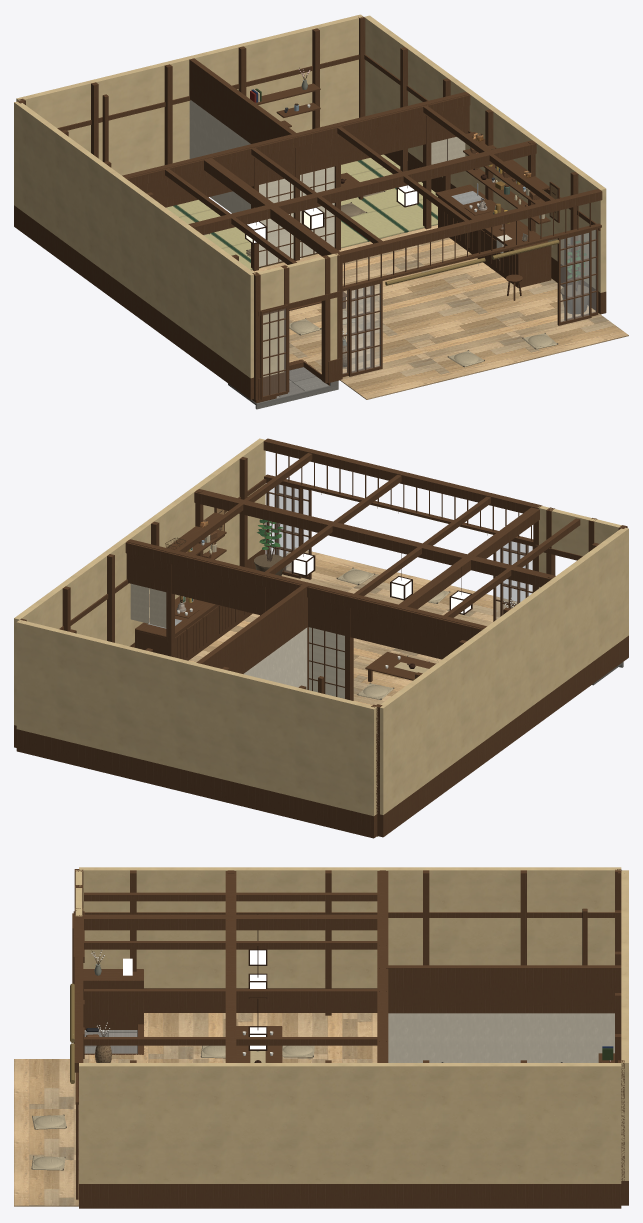
The model's file is yizhan.glb.
3 views of the same model, one above another, from view 1: azimuth 30°, elevation 25°; view 2: azimuth 150°, elevation 25°; view 3: azimuth 270°, elevation 25° (orthographic). The views are drawn at different scales.
Parts seen in each view (by area): view 1: yzn_post, WALL_left_yzn_wall, yzn_floor, WALL_back_yzn_wall, WALL_engawa_yzn_post, WALL_right_yzn_wall, yzn_vcg, WALL_engawa_yzn_glass, yzn_tatami, WALL_left_yzn_post, WALL_right_yzn_post, WALL_engawa_yzn_wall (+5 smaller); view 2: WALL_back_yzn_wall, yzn_post, WALL_left_yzn_wall, WALL_right_yzn_wall, WALL_engawa_yzn_post, WALL_back_yzn_post, yzn_floor, WALL_left_yzn_post, yzn_vcg, WALL_right_yzn_post, WALL_engawa_yzn_glass, yzn_vc (+4 smaller); view 3: WALL_right_yzn_wall, WALL_left_yzn_wall, yzn_post, yzn_floor, WALL_right_yzn_post, yzn_vcg, WALL_left_yzn_post, WALL_back_yzn_wall, WALL_engawa_yzn_post, yzn_vc_fabric, WALL_back_yzn_post, yzn_washi (+3 smaller).
Boxes of the visible parts, box(x1,y1,x2,y2) form: yzn_post: box(102, 58, 554, 403); WALL_left_yzn_wall: box(14, 101, 255, 378); yzn_floor: box(251, 225, 628, 399); WALL_back_yzn_wall: box(16, 14, 363, 175); WALL_engawa_yzn_post: box(252, 188, 602, 400); WALL_right_yzn_wall: box(364, 15, 606, 292); yzn_vcg: box(189, 69, 588, 409); WALL_engawa_yzn_glass: box(263, 230, 595, 395); yzn_tatami: box(166, 154, 437, 270); WALL_left_yzn_post: box(14, 98, 253, 399); WALL_right_yzn_post: box(358, 16, 606, 314); WALL_engawa_yzn_wall: box(257, 253, 339, 376); WALL_back_yzn_wall: box(16, 620, 377, 816); yzn_post: box(125, 453, 580, 700); WALL_left_yzn_wall: box(377, 527, 628, 814); WALL_right_yzn_wall: box(14, 438, 265, 725); WALL_engawa_yzn_post: box(263, 438, 627, 621); WALL_back_yzn_post: box(16, 629, 382, 838); yzn_floor: box(189, 547, 517, 705); WALL_left_yzn_post: box(371, 543, 628, 837); yzn_vcg: box(177, 535, 623, 698); WALL_right_yzn_post: box(14, 457, 266, 747); WALL_engawa_yzn_glass: box(269, 484, 532, 619); yzn_vc: box(130, 519, 514, 673); WALL_right_yzn_wall: box(79, 1063, 621, 1183); WALL_left_yzn_wall: box(79, 867, 621, 988); yzn_post: box(83, 870, 621, 1062); yzn_floor: box(14, 1013, 377, 1206); WALL_right_yzn_post: box(79, 1060, 624, 1208); yzn_vcg: box(84, 950, 614, 1062); WALL_left_yzn_post: box(84, 870, 621, 1015); WALL_back_yzn_wall: box(621, 870, 628, 1180); WALL_engawa_yzn_post: box(72, 869, 84, 1199); yzn_vc_fabric: box(31, 1045, 314, 1170); WALL_back_yzn_post: box(615, 869, 628, 1205); yzn_washi: box(123, 950, 266, 1049).
Bounding box in the file's own units: 8.68 × 3.15 × 11.34.
19 materials, 16 textured.
